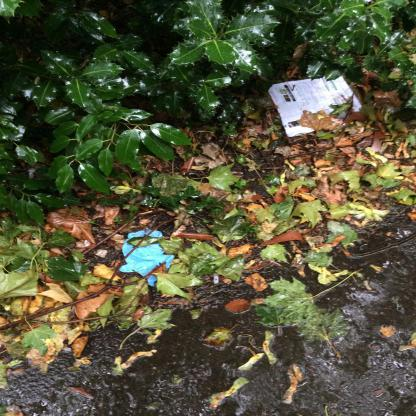karton: (269, 74, 363, 139)
plastik: (120, 230, 176, 288)
